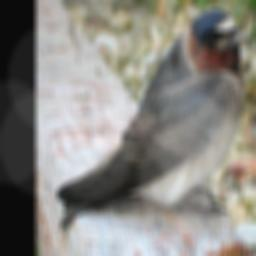Swallow: (53, 4, 253, 234)
